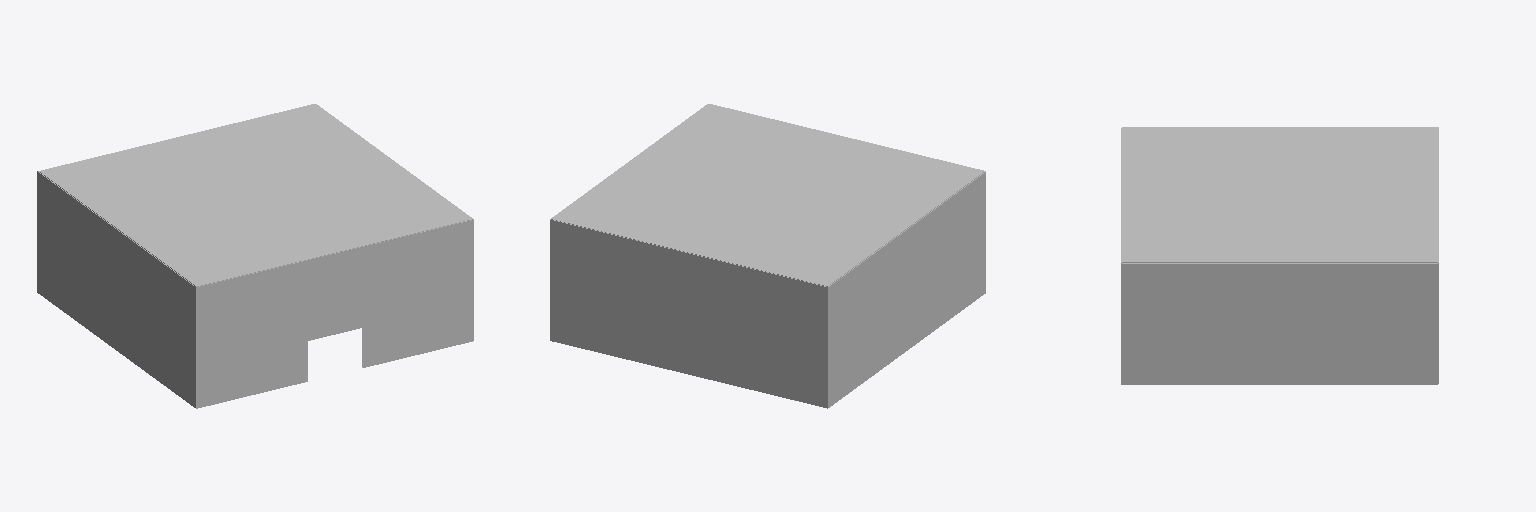
The model's file is WallOuter.obj.
3 renders of one model, left to right at view 1: azimuth 30°, elevation 25°; view 2: azimuth 150°, elevation 25°; view 3: azimuth 270°, elevation 25°, orthographic.
Parts seen in each view (by area): view 1: pCube6, pCube3, pCube10; view 2: pCube6, pCube8, pCube10; view 3: pCube6, pCube7.
Boxes of the visible parts, <box> form: pCube6: <box>39,104,472,286</box>; pCube3: <box>195,218,473,408</box>; pCube10: <box>38,173,196,408</box>; pCube6: <box>551,104,984,286</box>; pCube8: <box>551,220,829,408</box>; pCube10: <box>829,172,985,407</box>; pCube6: <box>1122,127,1437,262</box>; pCube7: <box>1122,263,1437,384</box>.
Bounding box in the file's own units: 24.86 × 10.41 × 24.53.